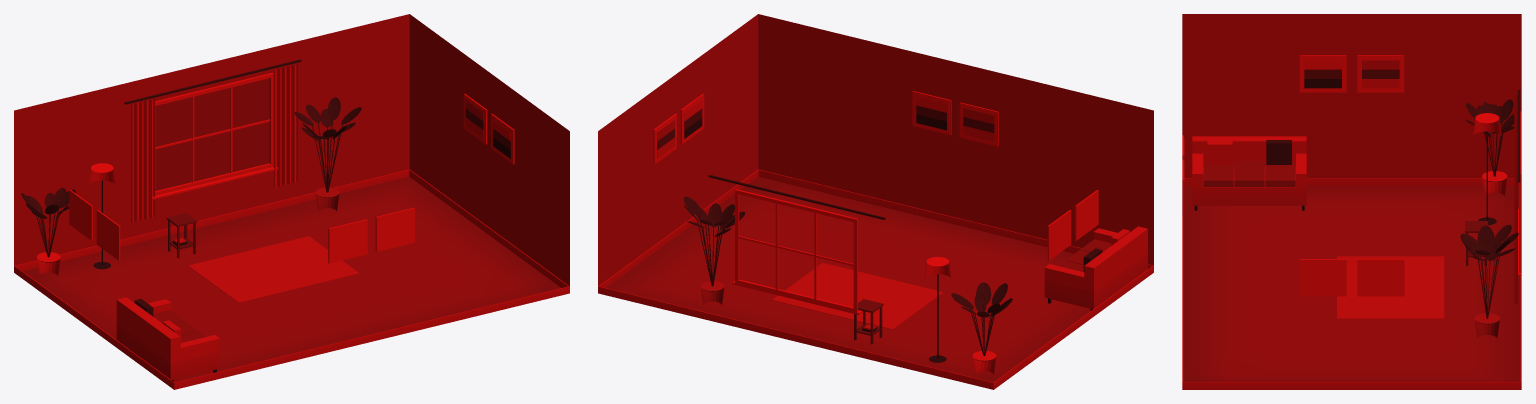
The model's file is room_sunny.glb.
3 views of the same model, side by side, from view 1: azimuth 30°, elevation 25°; view 2: azimuth 150°, elevation 25°; view 3: azimuth 270°, elevation 25° (orthographic). The views are drawn at different scales.
Visible parts, largest first — view 1: Shell, CenterWindow, TankRug, CenterSofa, CenterCurtainR, CenterArtF, CenterCurtainL, RightPlant, CenterArtRW, CenterArtLW, CenterPlantCorner, LeftTable (+1 smaller); view 2: Shell, CenterSofa, TankRug, CenterWindow, CenterArtF, RightPlant, CenterPlantCorner, CenterArtRW, CenterArtLW, LeftTable, LeftLamp; view 3: Shell, CenterSofa, TankRug, CenterArtLW, CenterArtRW, RightPlant, CenterPlantCorner, CenterWindow, LeftLamp, CenterCurtainR, LeftTable, CenterCurtainL.
Part boxes in pixels (x1,y1,x2,y2): Shell: (14,14,569,389); CenterWindow: (124,59,301,199); TankRug: (188,236,359,302); CenterSofa: (116,297,219,381); CenterCurtainR: (273,63,297,187); CenterArtF: (328,207,414,263); CenterCurtainL: (131,98,154,222); RightPlant: (294,97,361,210); CenterArtRW: (463,93,514,164); CenterArtLW: (69,190,120,260); CenterPlantCorner: (21,188,75,276); LeftTable: (166,213,197,258); Shell: (598,14,1153,389); CenterSofa: (1044,226,1147,310); TankRug: (772,263,943,329); CenterWindow: (708,175,885,314); CenterArtF: (912,91,998,146); RightPlant: (683,196,745,305); CenterPlantCorner: (951,282,1012,375); CenterArtRW: (653,93,704,164); CenterArtLW: (1047,190,1098,260); LeftTable: (853,299,883,344); LeftLamp: (924,257,951,362); Shell: (1182,14,1521,389); CenterSofa: (1192,136,1306,210); TankRug: (1337,256,1444,318); CenterArtLW: (1299,55,1404,92); CenterArtRW: (1299,259,1404,296); RightPlant: (1460,225,1518,337); CenterPlantCorner: (1465,99,1514,195); CenterWindow: (1517,90,1521,275); LeftLamp: (1472,113,1501,225); CenterCurtainR: (1514,169,1517,304); LeftTable: (1465,221,1487,265); CenterCurtainL: (1514,95,1517,169).
Size of the model in its own units: 724 by 282 by 505.
